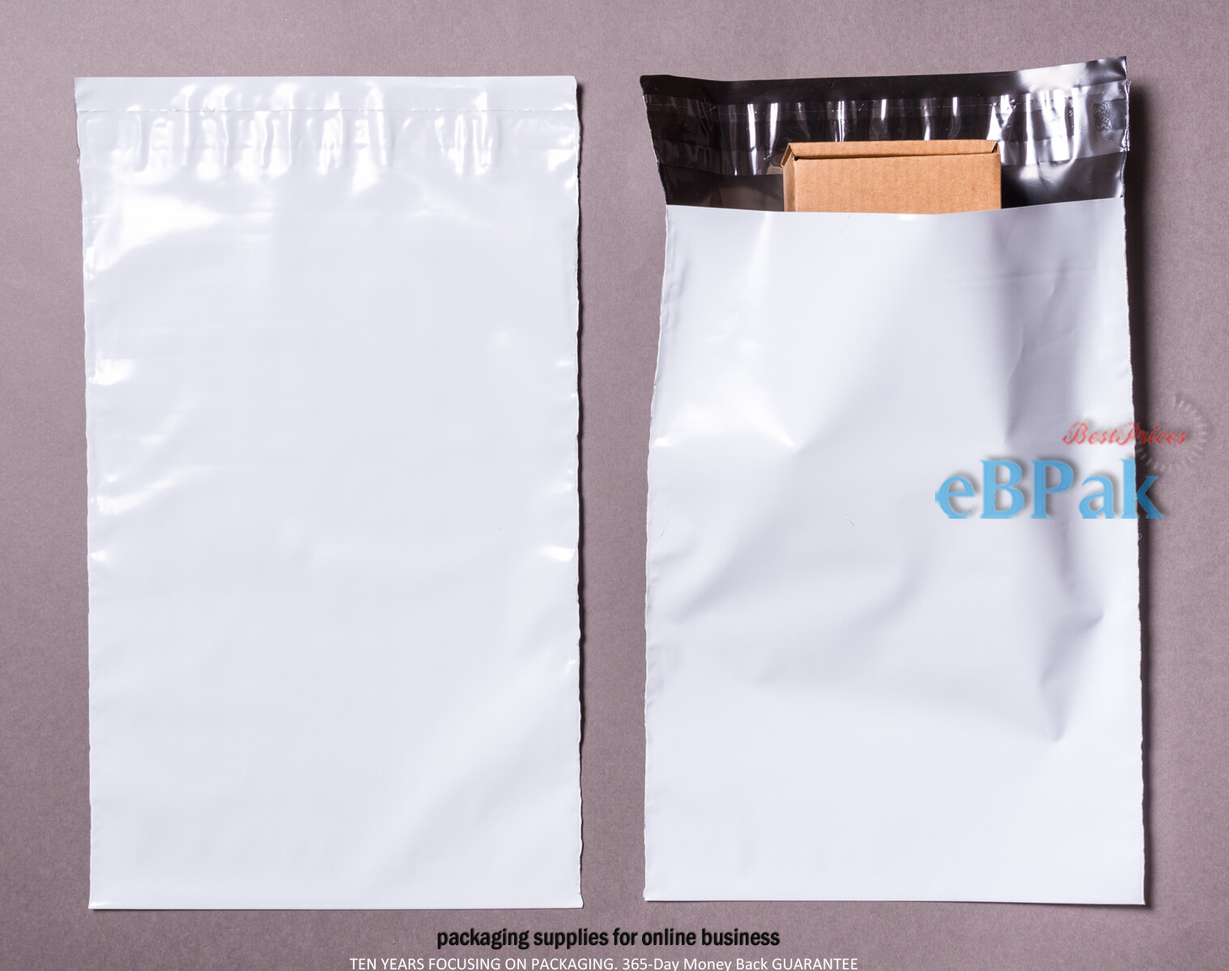塑料袋: (642, 59, 1142, 903), (76, 77, 579, 908)
